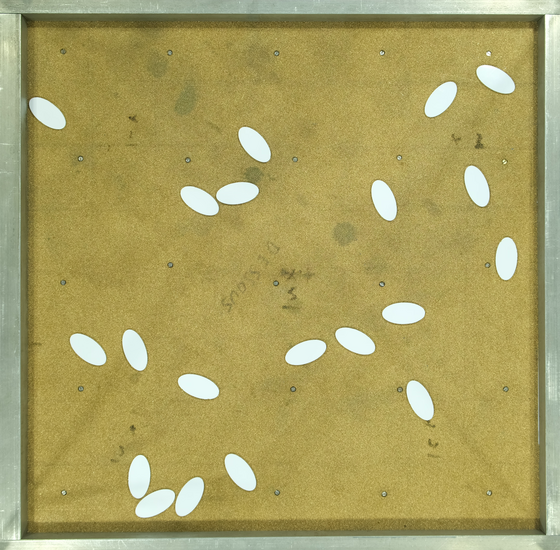pallet: (331, 319, 379, 362), (25, 90, 66, 134), (483, 238, 524, 282), (399, 379, 440, 423), (223, 451, 264, 495), (170, 473, 211, 517), (117, 453, 158, 497), (112, 329, 153, 373), (68, 327, 109, 371), (477, 57, 518, 101), (420, 78, 461, 122), (455, 164, 496, 208), (363, 178, 404, 222), (180, 179, 221, 223), (233, 121, 274, 165), (215, 177, 260, 211), (131, 486, 176, 520), (176, 367, 221, 401), (380, 294, 425, 328), (281, 334, 326, 368)
